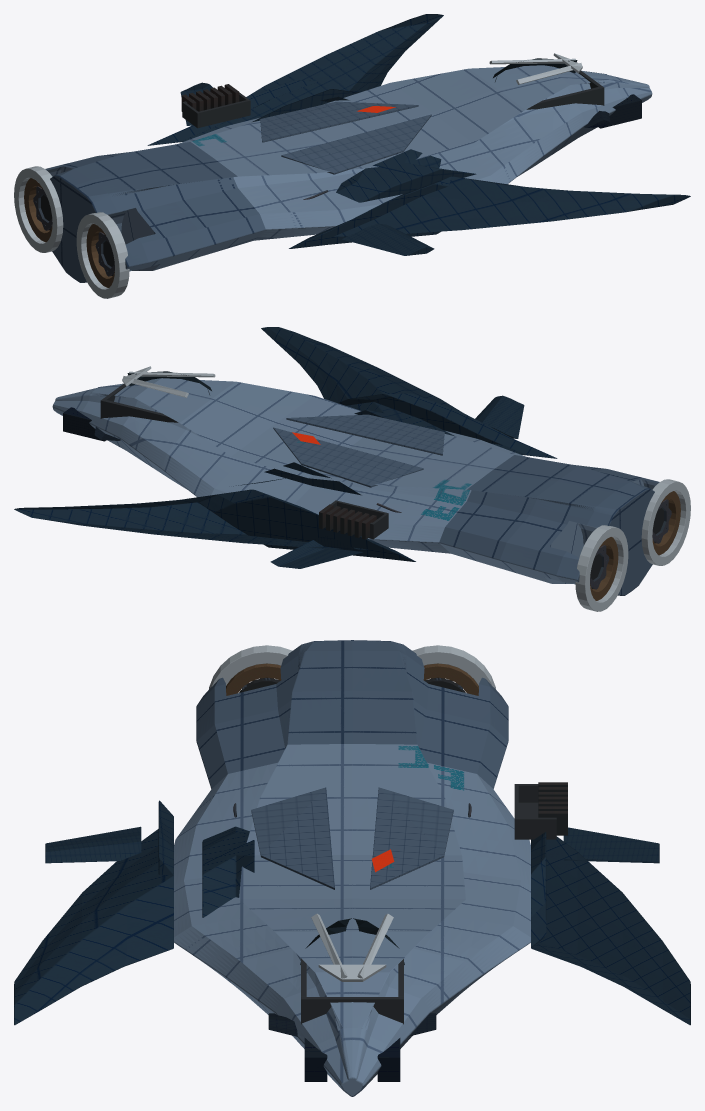
File: hornet_production_v1_lod0.glb
3 renders of one model, top to bottom at view 1: azimuth 30°, elevation 25°; view 2: azimuth 150°, elevation 25°; view 3: azimuth 270°, elevation 25°, orthographic. The views are drawn at different scales.
Parts seen in each view (by area): view 1: LOD0_Hull, Wing_Port, Wing_Stbd, SaddlePanel_Port, Wing_Port_RootFairing, SaddlePanel_Stbd, DriveFlange_Port, DriveFlange_Stbd, Wing_Port_Flap, Wing_Stbd_RootFairing, CanopyTub_C189_Port, DriveCeramic_Stbd (+3 smaller); view 2: LOD0_Hull, Wing_Stbd, Wing_Port, SaddlePanel_Stbd, SaddlePanel_Port, DriveFlange_Stbd, DriveFlange_Port, Wing_Stbd_Flap, Wing_Port_Flap, Wing_Stbd_RootFairing, Wing_Port_RootFairing, CanopyTub_C189_Stbd (+3 smaller); view 3: LOD0_Hull, Wing_Port, Wing_Stbd, SaddlePanel_Port, SaddlePanel_Stbd, Wing_Port_RootFairing, Wing_Port_Flap, Wing_Stbd_Flap, CanopyTub_C189_Fore, DriveFlange_Port, DriveFlange_Stbd, RadiatorCassette_C189_Fore (+5 smaller).
Boxes of the visible parts, x1,y1,x2,y2 form: LOD0_Hull: (45, 65, 652, 282); Wing_Port: (289, 176, 690, 248); Wing_Stbd: (147, 14, 443, 145); SaddlePanel_Port: (281, 114, 431, 174); Wing_Port_RootFairing: (336, 149, 476, 202); SaddlePanel_Stbd: (260, 101, 418, 142); DriveFlange_Port: (76, 212, 129, 298); DriveFlange_Stbd: (14, 166, 63, 252); Wing_Port_Flap: (342, 223, 434, 255); Wing_Stbd_RootFairing: (252, 89, 358, 121); CanopyTub_C189_Port: (526, 87, 600, 109); DriveCeramic_Stbd: (24, 178, 52, 242); LOD0_Hull: (52, 378, 659, 595); Wing_Stbd: (14, 489, 415, 561); Wing_Port: (261, 327, 557, 458); SaddlePanel_Stbd: (273, 427, 423, 487); SaddlePanel_Port: (286, 414, 444, 455); DriveFlange_Stbd: (575, 525, 628, 611); DriveFlange_Port: (641, 479, 690, 565); Wing_Stbd_Flap: (270, 536, 362, 568); Wing_Port_Flap: (475, 395, 524, 438); Wing_Stbd_RootFairing: (233, 462, 361, 495); Wing_Port_RootFairing: (346, 402, 454, 436); CanopyTub_C189_Stbd: (104, 400, 178, 422); LOD0_Hull: (174, 640, 530, 1096); Wing_Port: (14, 800, 173, 1025); Wing_Stbd: (531, 832, 690, 1025); SaddlePanel_Port: (251, 787, 334, 889); SaddlePanel_Stbd: (370, 787, 453, 889); Wing_Port_RootFairing: (202, 826, 254, 917); Wing_Port_Flap: (45, 826, 141, 863); Wing_Stbd_Flap: (563, 827, 659, 863); CanopyTub_C189_Fore: (301, 997, 403, 1024); DriveFlange_Port: (209, 645, 292, 688); DriveFlange_Stbd: (412, 645, 495, 688); RadiatorCassette_C189_Fore: (514, 817, 556, 839).
Size of what is drawn, in the model's own units: 10.53 by 1.78 by 7.76.
13 materials, 9 textured.
